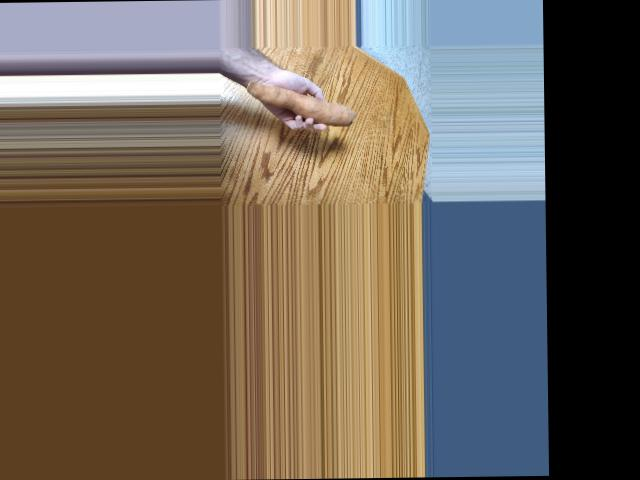sweet_potato: (259, 86, 371, 133)
